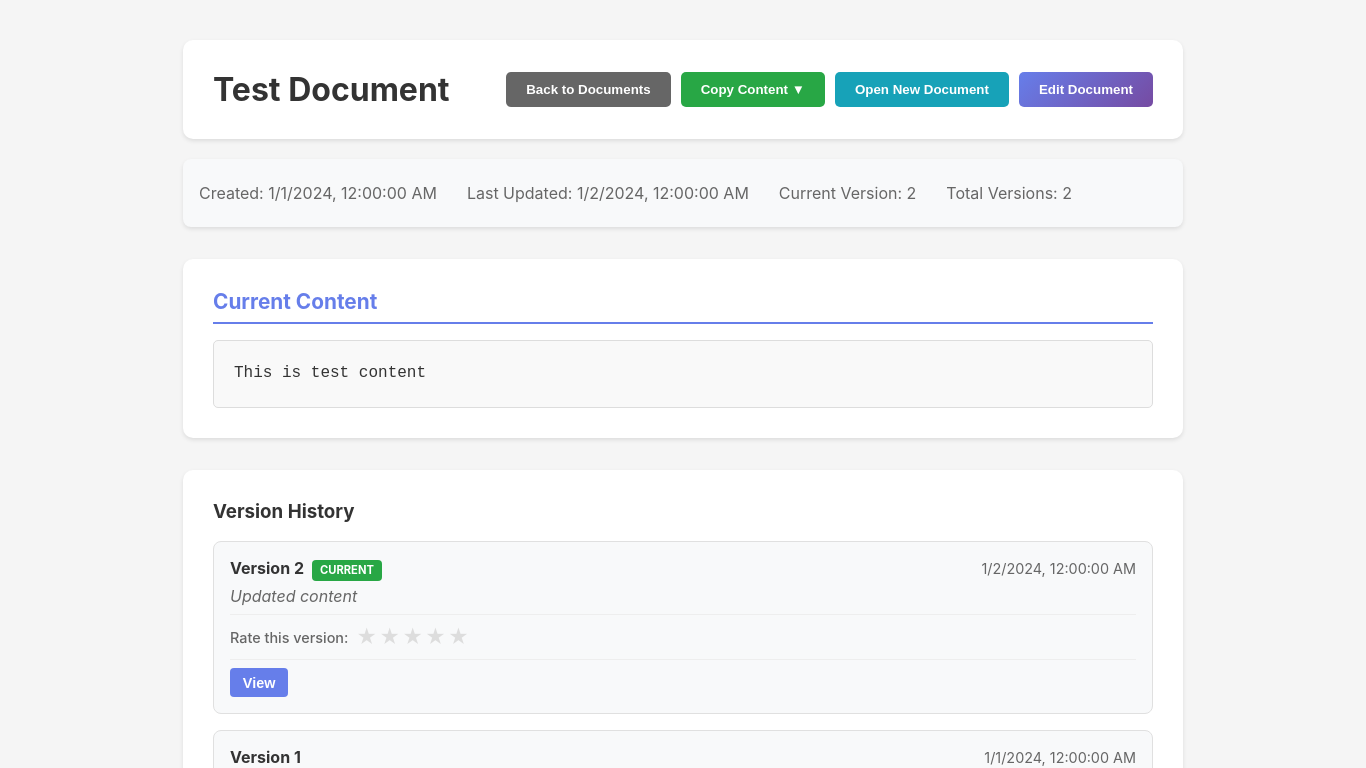
it: ViewDocument Component › shows edit mode when Edit Document button is clicked
Expected: the heading "Test Document" is shown, [213,70,450,109]
Step 1. Click the button "Edit Document" → (1086, 90), box [1019,72,1153,107]
(page scrolled)
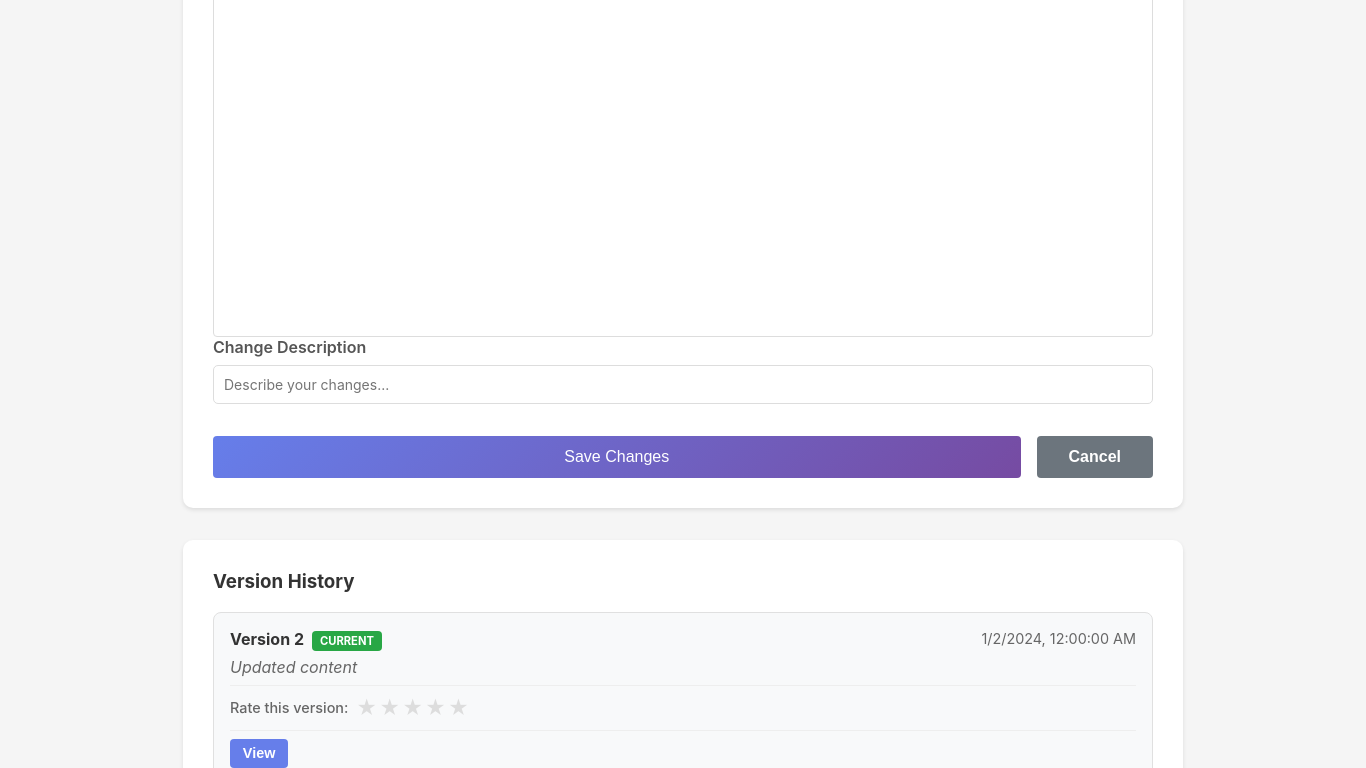
Expected: the button "Save Changes" is shown, [213,436,1020,478]
Expected: the button "Cancel" is shown, [1036,436,1153,478]
Expected: the field labelled "Change Description" is shown, [213,365,1153,404]
